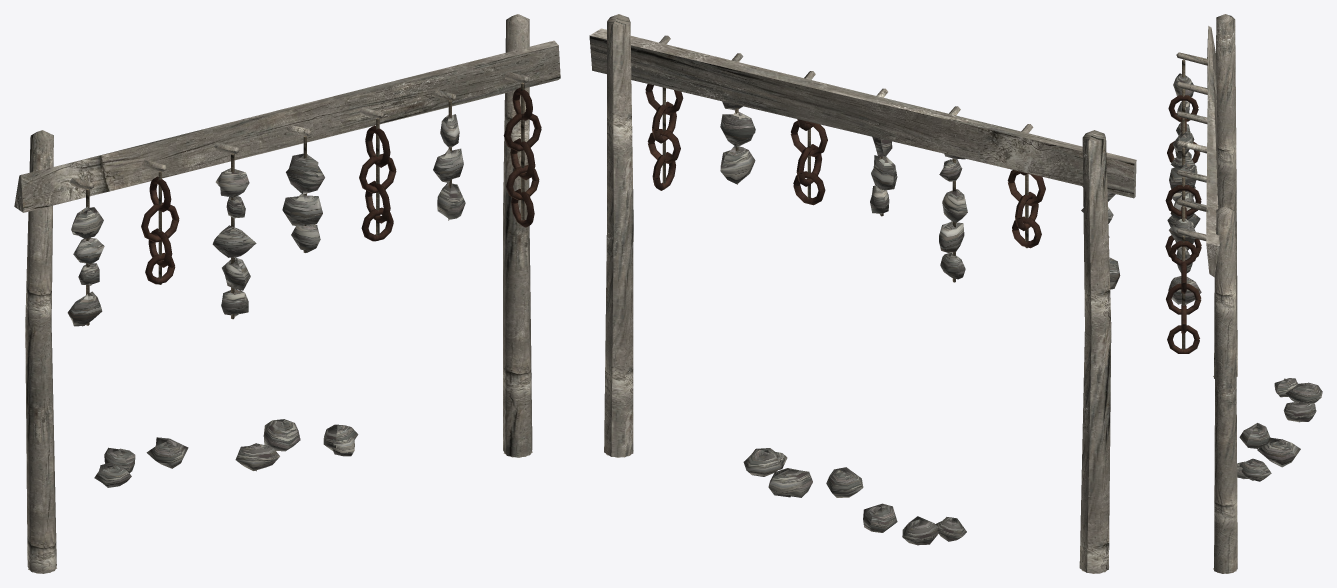
Rendered from kit_sf_net_sinkers_p.glb.
The picture shows the model from 3 angles, left to right: view 1: azimuth 30°, elevation 25°; view 2: azimuth 150°, elevation 25°; view 3: azimuth 270°, elevation 25°; orthographic projection. The views are drawn at different scales.
Visible parts, largest first — view 1: kit_sf_net_sinkers_p; view 2: kit_sf_net_sinkers_p; view 3: kit_sf_net_sinkers_p.
Boxes of the visible parts, <box> form: kit_sf_net_sinkers_p: <box>14,14,560,573</box>; kit_sf_net_sinkers_p: <box>589,14,1136,573</box>; kit_sf_net_sinkers_p: <box>1165,14,1322,573</box>.
Size of the model in its own units: 1.87 by 1.44 by 0.5666.
Materials: 1 (1 with a texture image).
